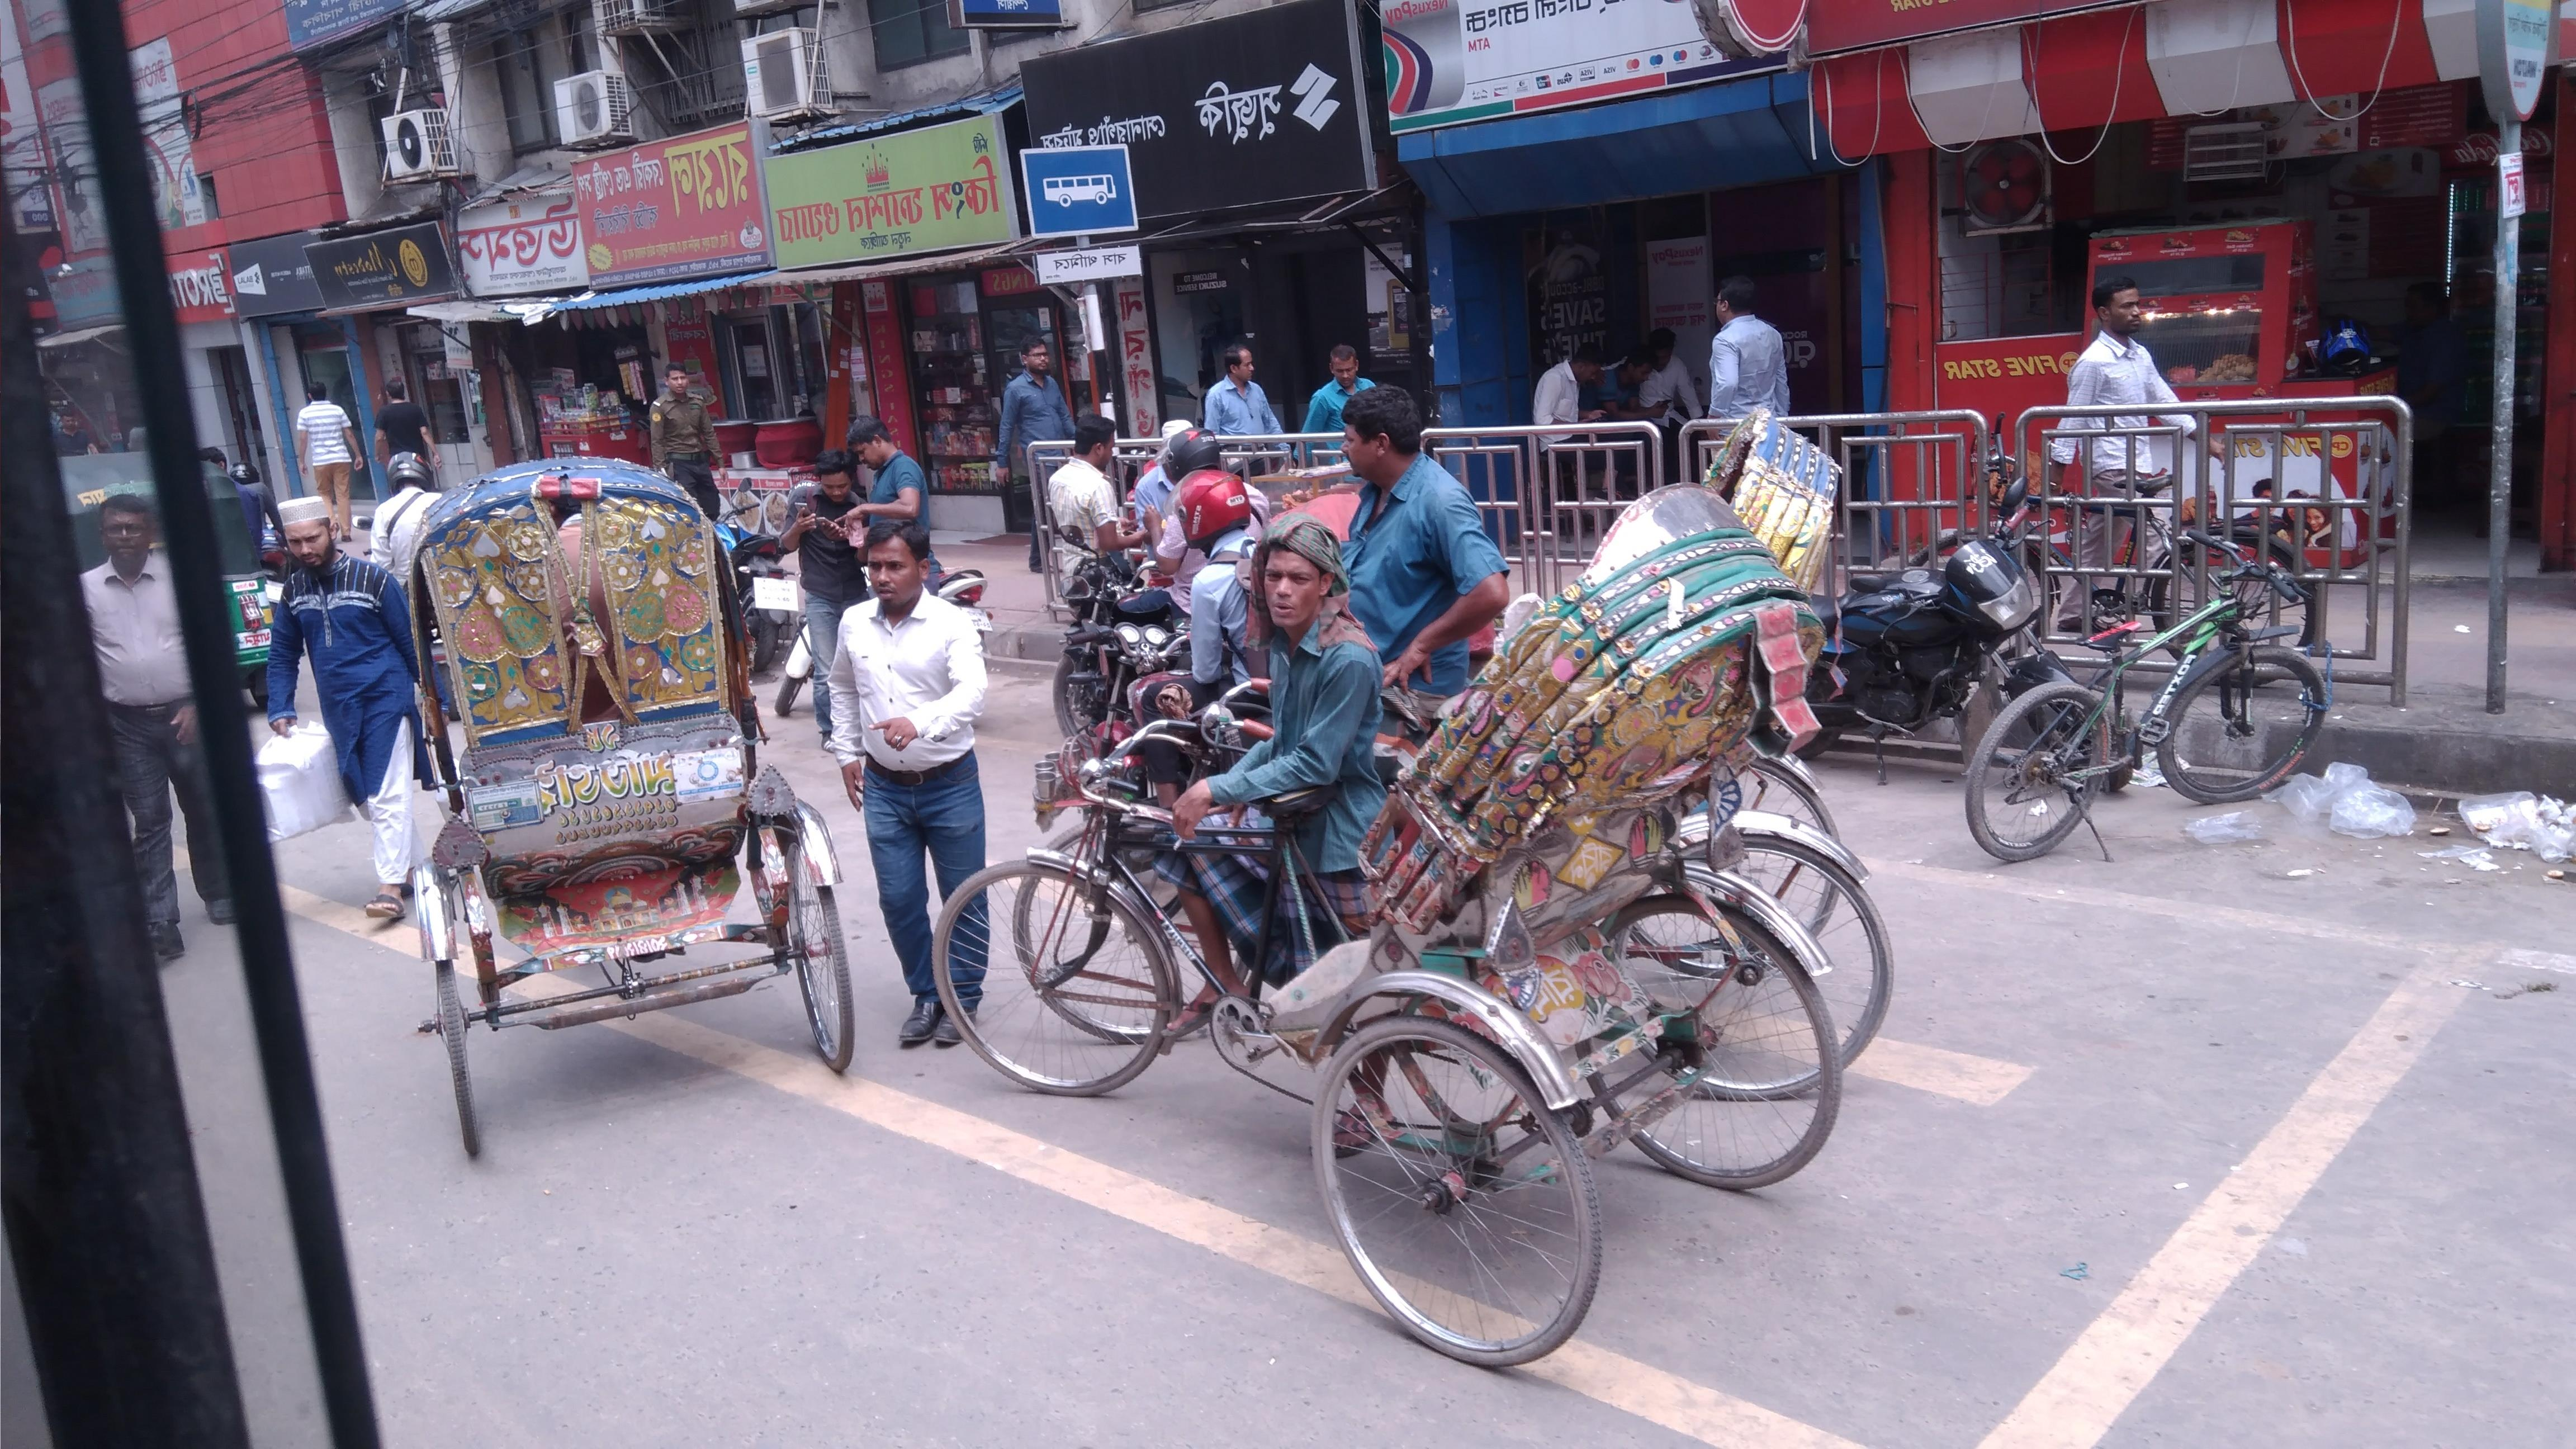Rickshaw: (941, 467, 1826, 1338), (363, 412, 893, 1141), (1709, 375, 1867, 660)
